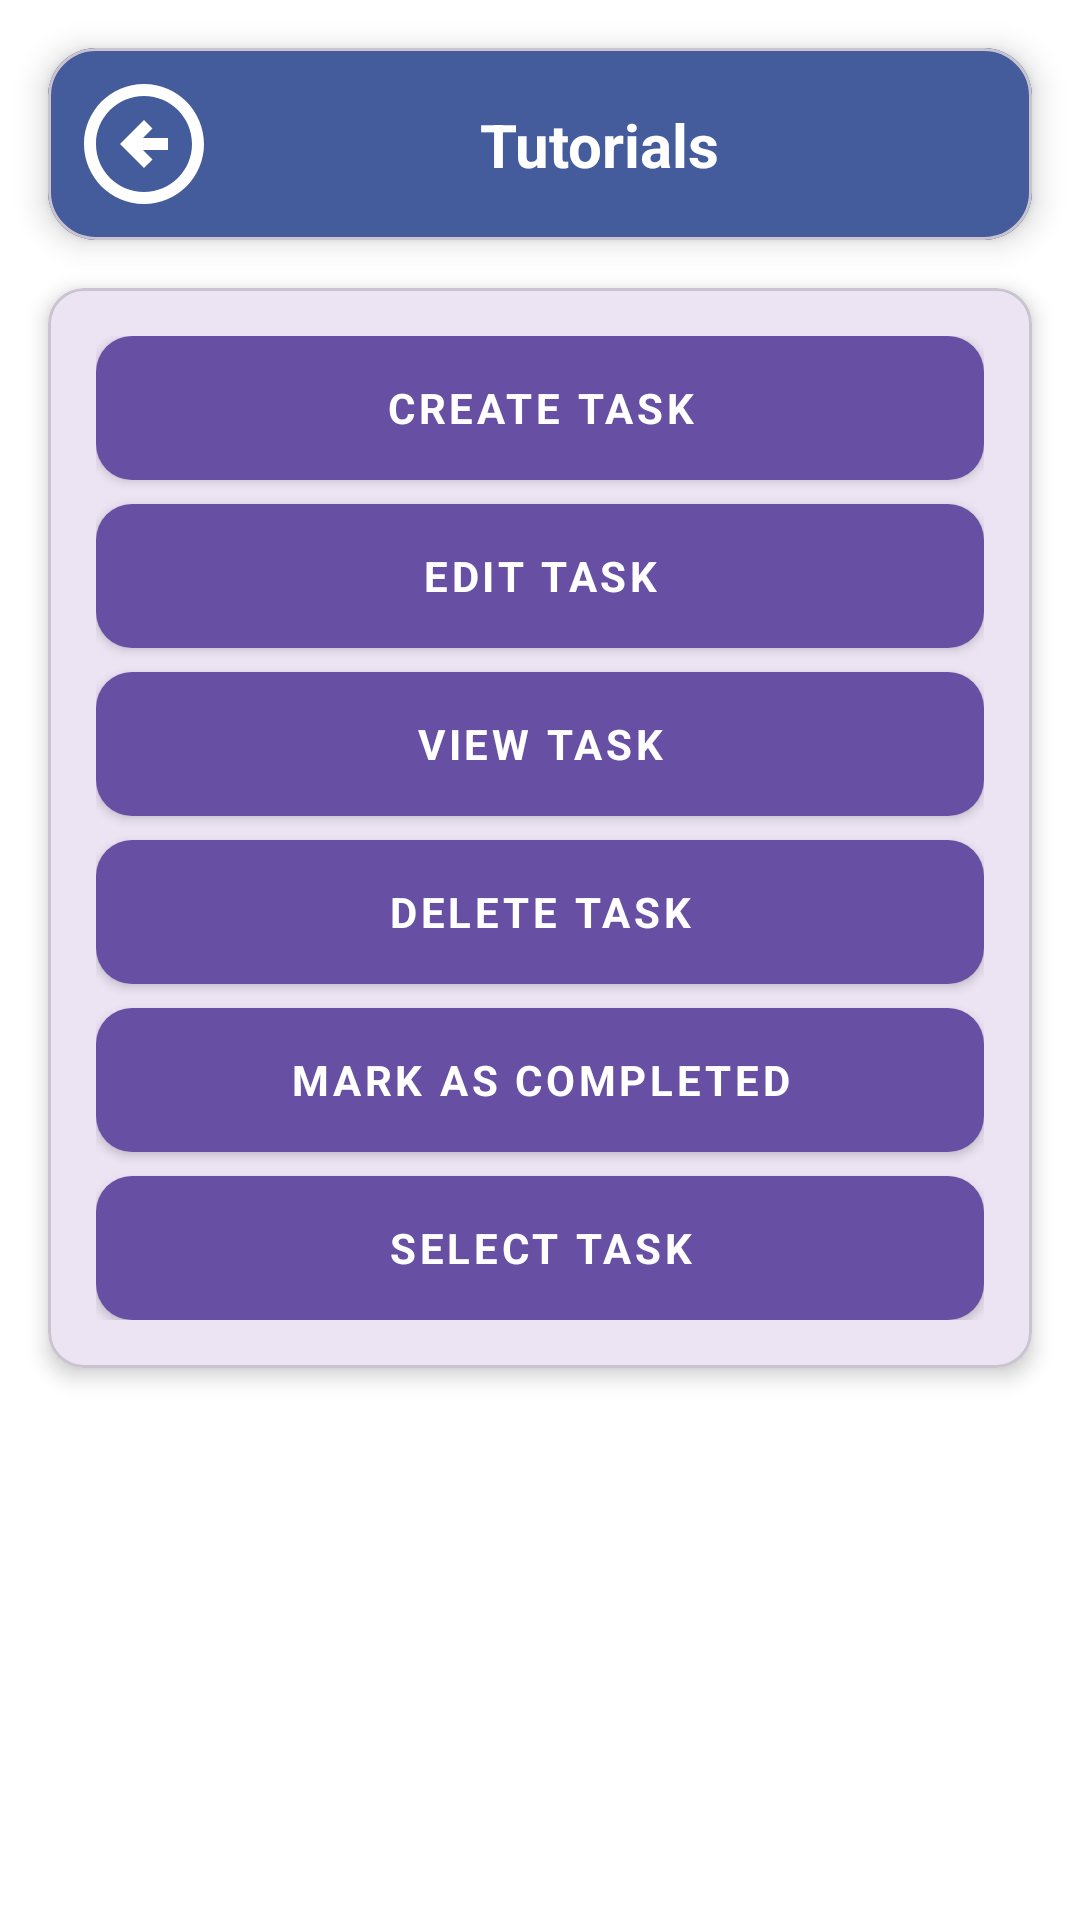

Named icons in this screenshot (1080×1920) and their centers, point (x, y):
Go back: point (144, 144)
